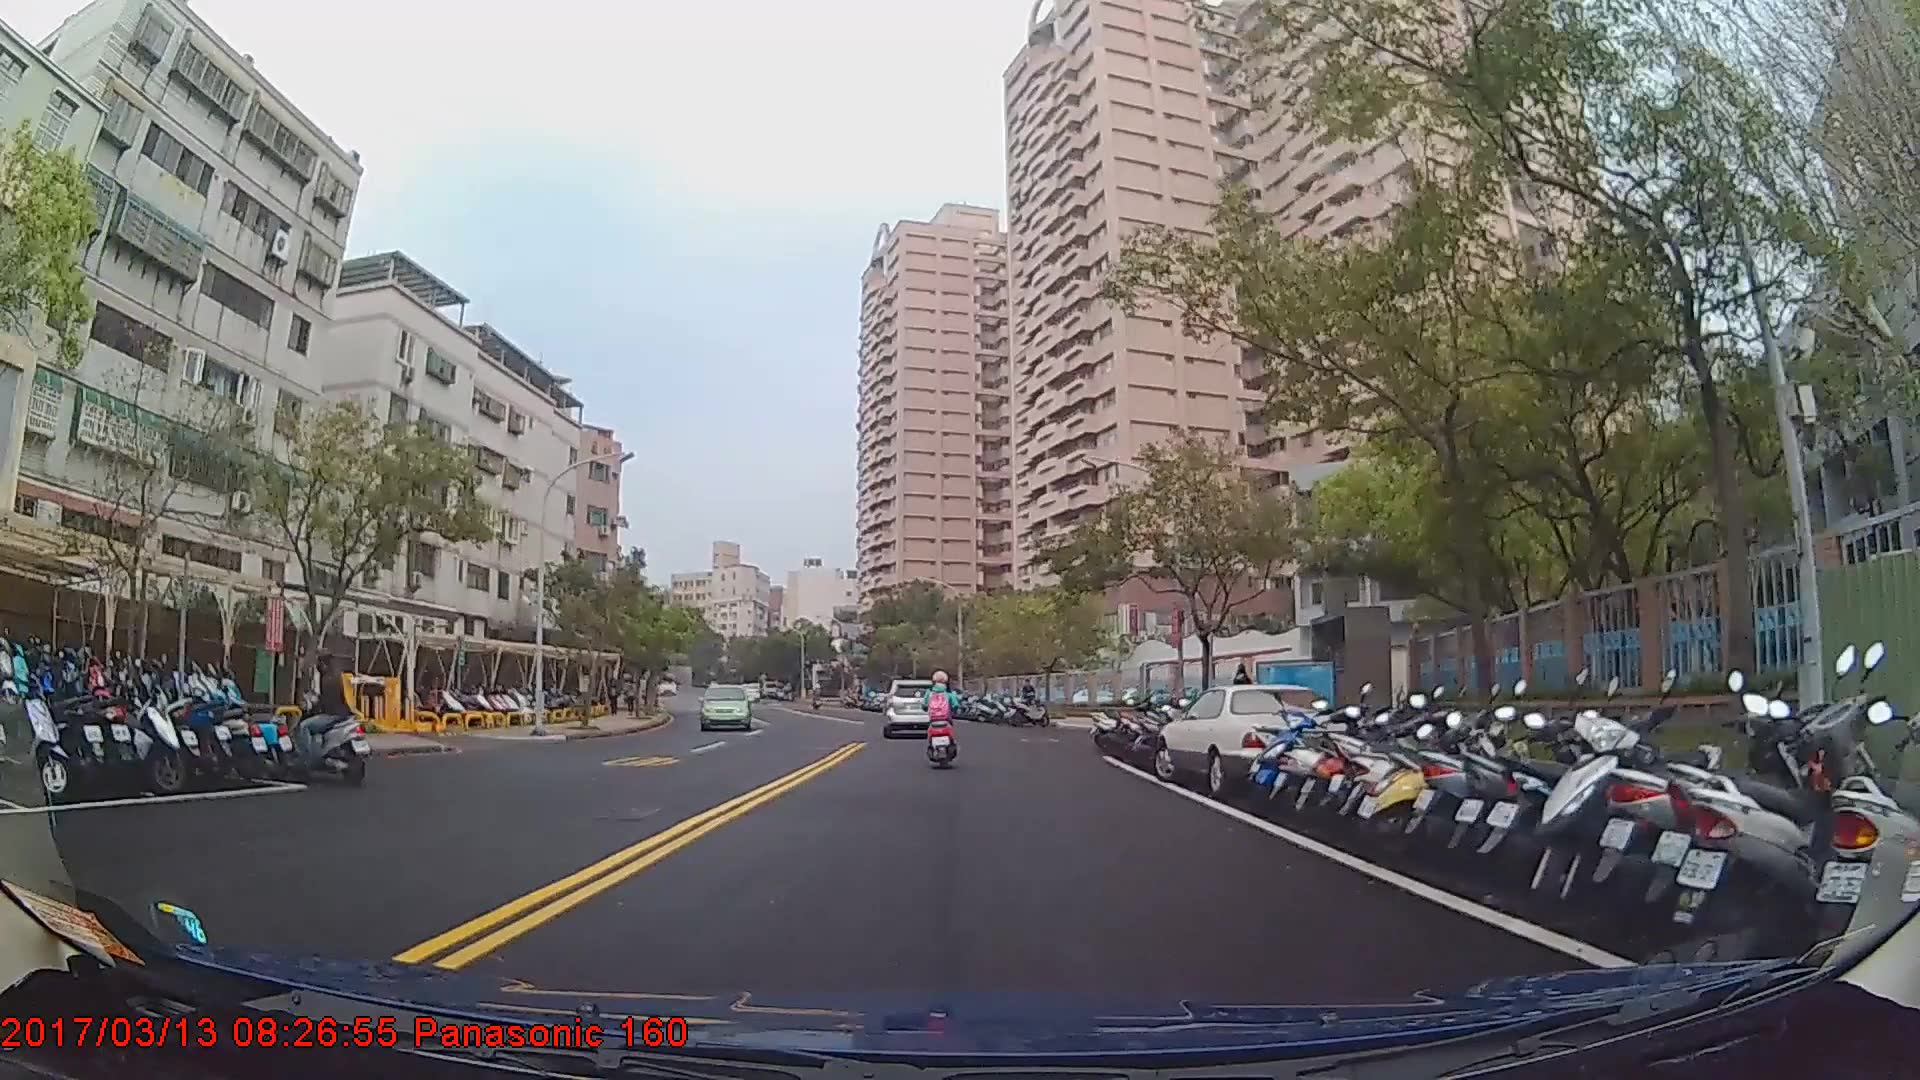pedestrian: (1232, 663, 1256, 727)
rider: (281, 647, 357, 774), (922, 669, 961, 772)
vehicle: (1154, 682, 1353, 795), (878, 677, 941, 736), (697, 683, 751, 733)
